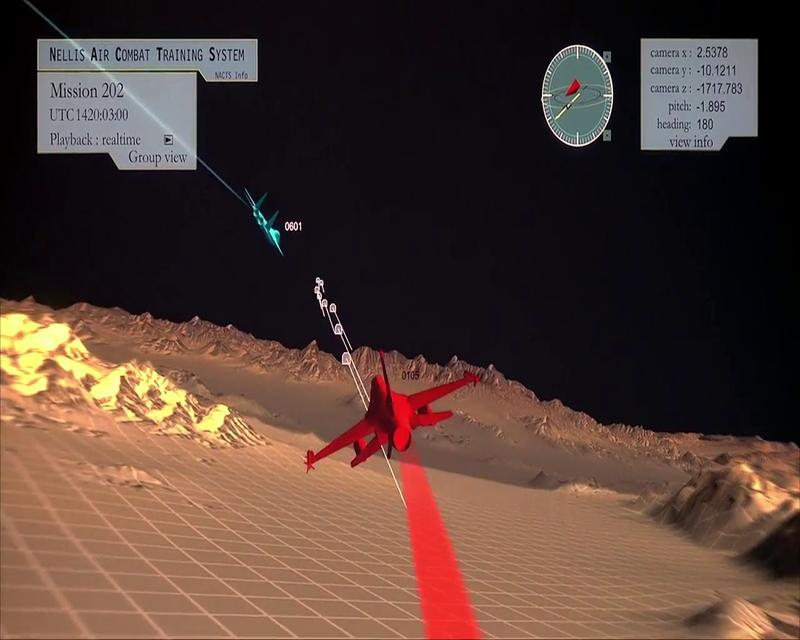UAV: (303, 372, 477, 474), (242, 188, 290, 254)
